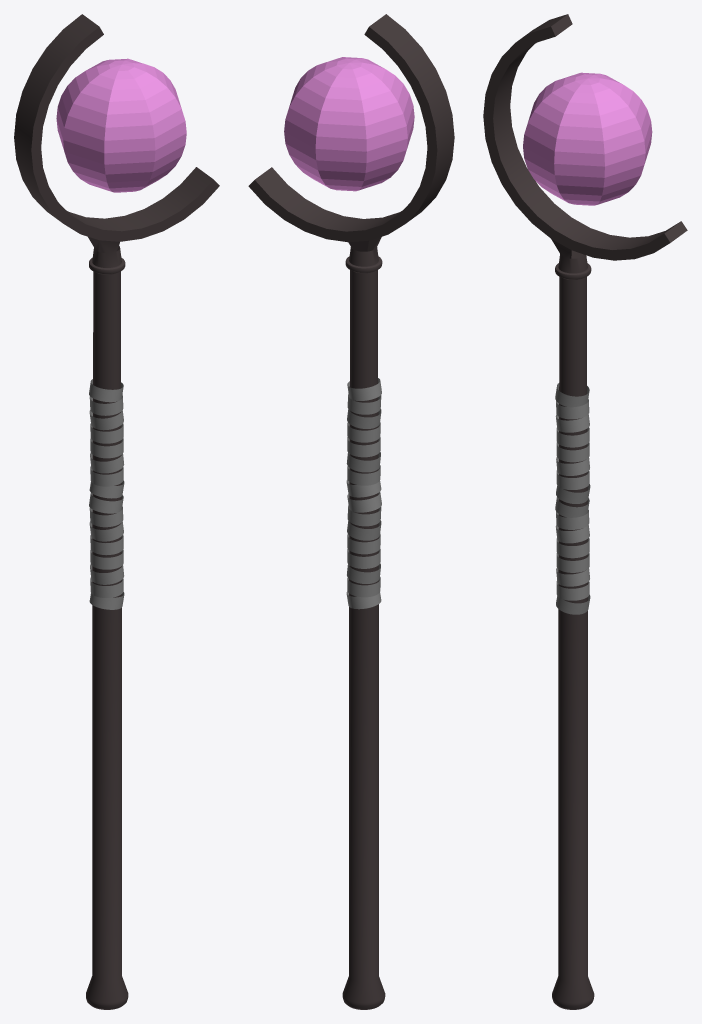
The model's file is MagicWand3.fbx.
3 renders of one model, left to right at view 1: azimuth 30°, elevation 25°; view 2: azimuth 150°, elevation 25°; view 3: azimuth 330°, elevation 25°, orthographic.
Visible parts, largest first — view 1: MagicWand3; view 2: MagicWand3; view 3: MagicWand3.
Boxes of the visible parts, x1,y1,x2,y2 form: MagicWand3: (14,14,219,1009); MagicWand3: (248,14,454,1009); MagicWand3: (483,14,687,1009).
Bounding box in the file's own units: 0.1602 × 0.7999 × 0.0992.
